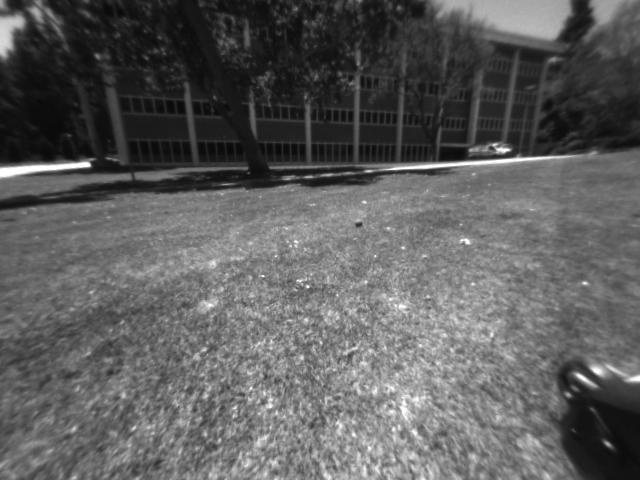dogtoy: (350, 217, 370, 230)
